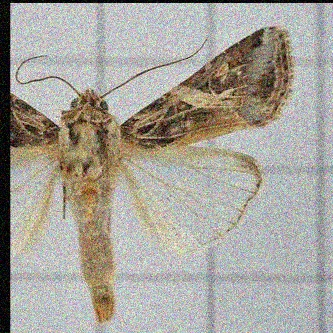Spodoptera litura: (11, 24, 297, 323)
